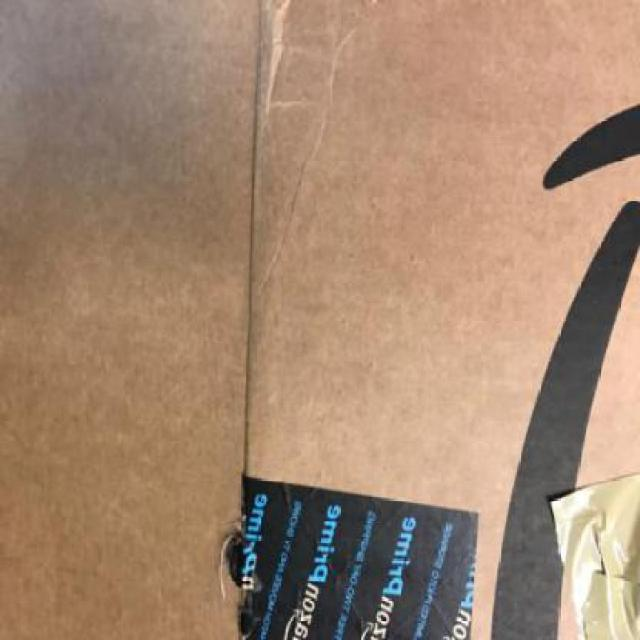CARDBOARD: (1, 0, 640, 638), (247, 0, 640, 638), (2, 3, 260, 639)
